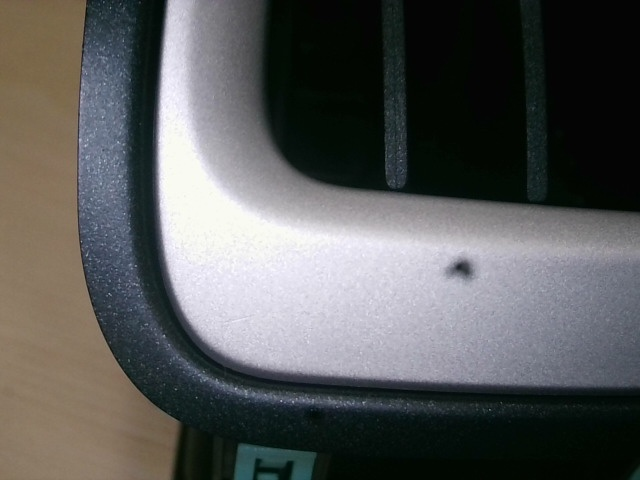NG: (213, 306, 267, 336)
